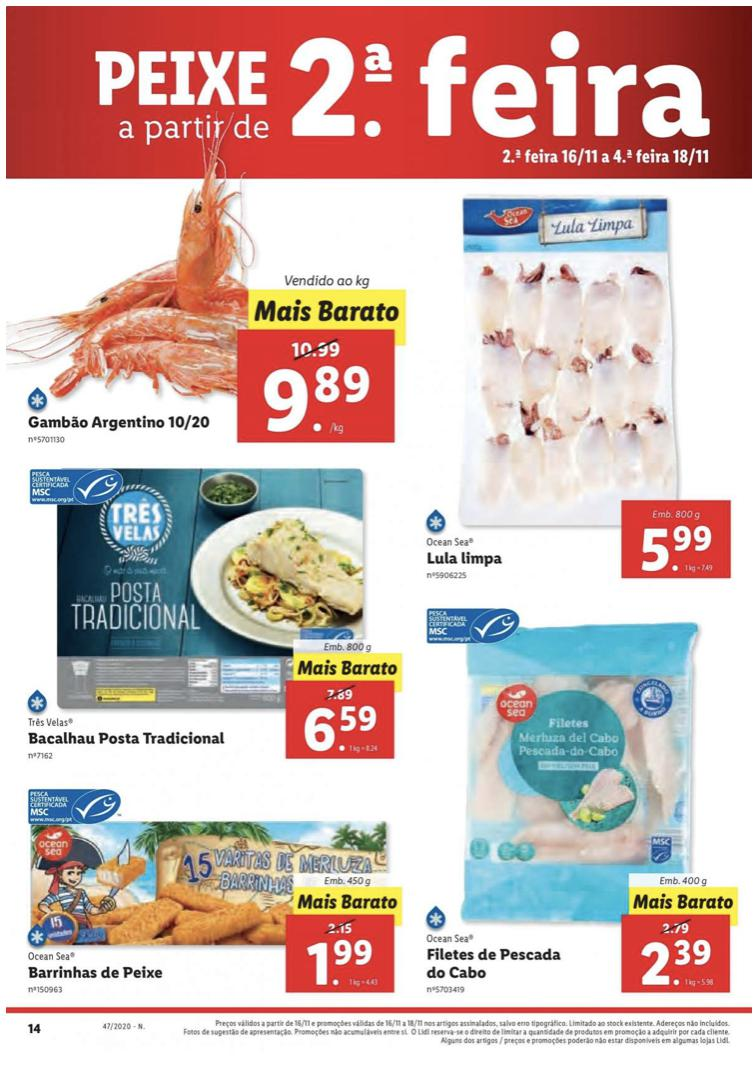name: (421, 943, 565, 981), (24, 727, 232, 750), (27, 411, 214, 434), (24, 963, 169, 984), (423, 546, 514, 567)
price: (257, 361, 369, 442), (635, 934, 714, 988), (303, 701, 381, 754), (640, 521, 715, 575), (308, 934, 381, 989)
product: (416, 594, 733, 998), (421, 197, 733, 594), (11, 464, 402, 769), (8, 169, 411, 456), (19, 767, 399, 1004)
